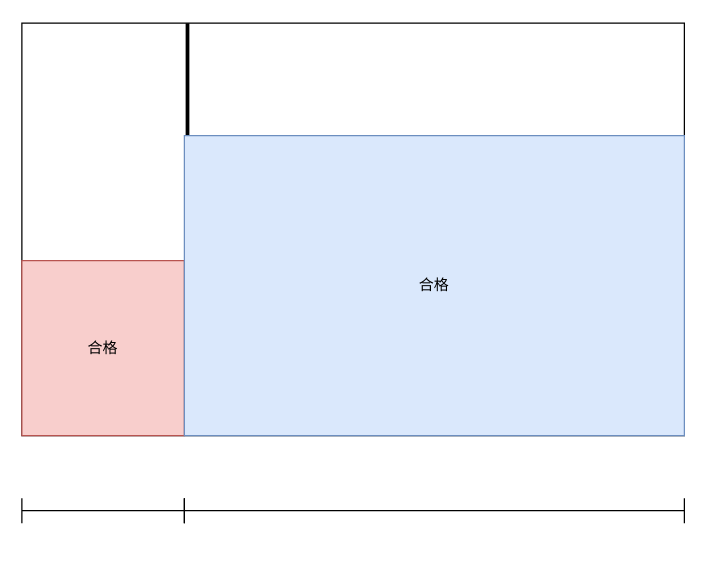
The diagram is 706 pixels wide and 574 high, and some of its shapes have lost their labels. The centre of each missing label's shape, as x and y in pixels:
无故障: point (433, 510)
有故障: point (102, 510)
